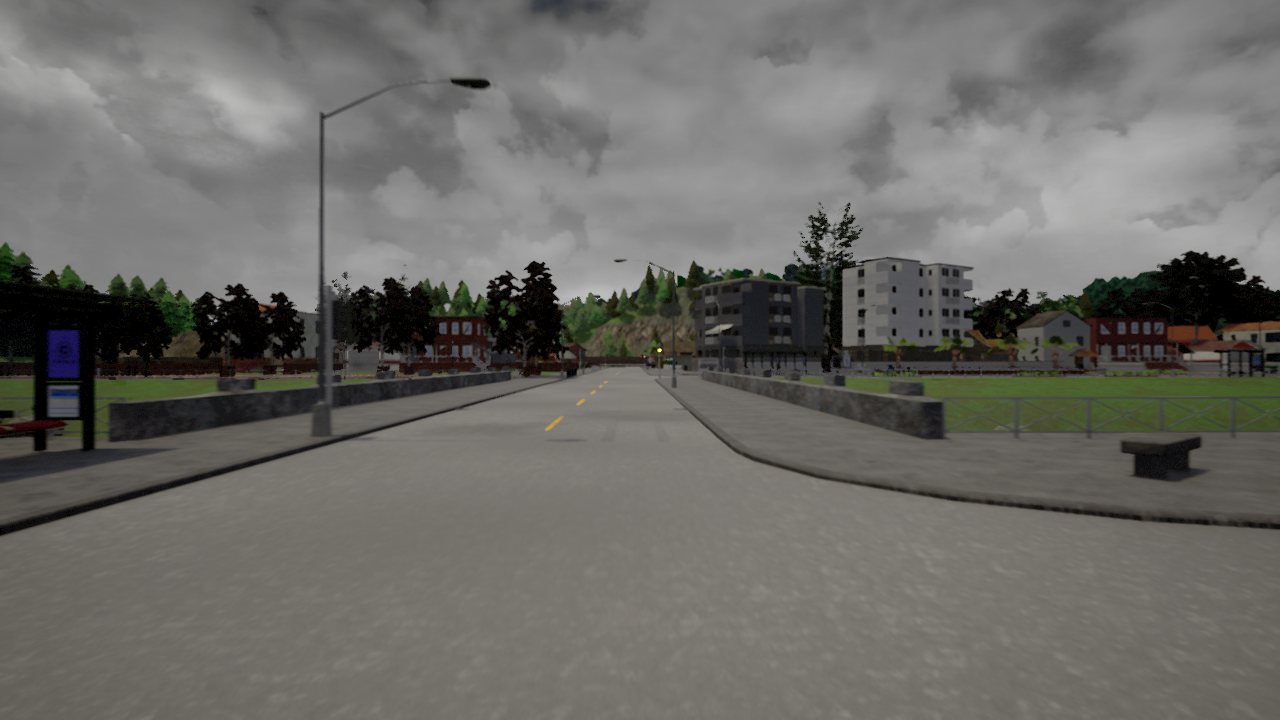yellow: (656, 345, 663, 356)
